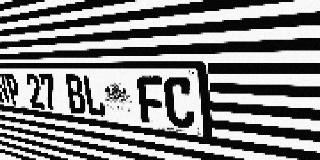2: (24, 74, 45, 109)
7: (38, 74, 60, 111)
B: (64, 74, 87, 115)
C: (163, 76, 196, 130)
F: (136, 76, 166, 126)
L: (81, 75, 107, 118)
N: (0, 73, 11, 105)
P: (4, 73, 23, 106)
